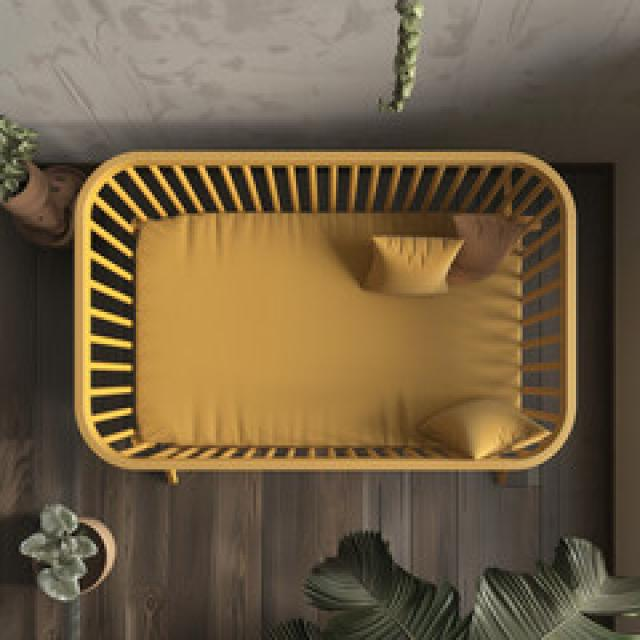crib: (69, 144, 579, 483)
